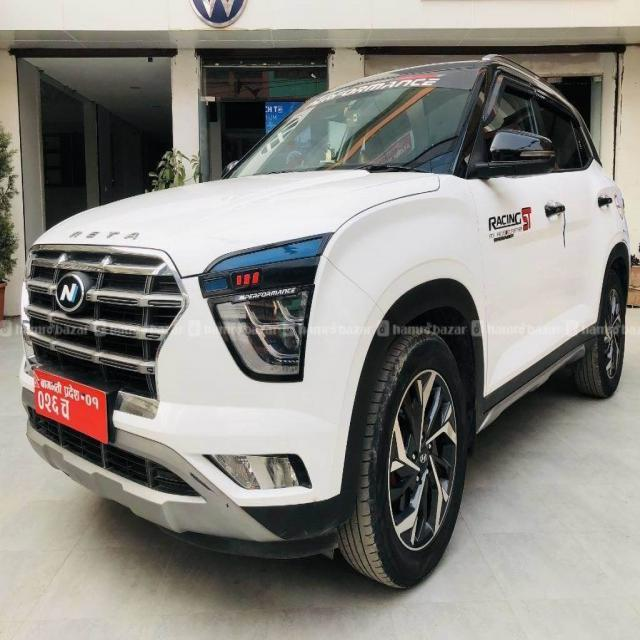License-plate: (26, 360, 120, 440)
